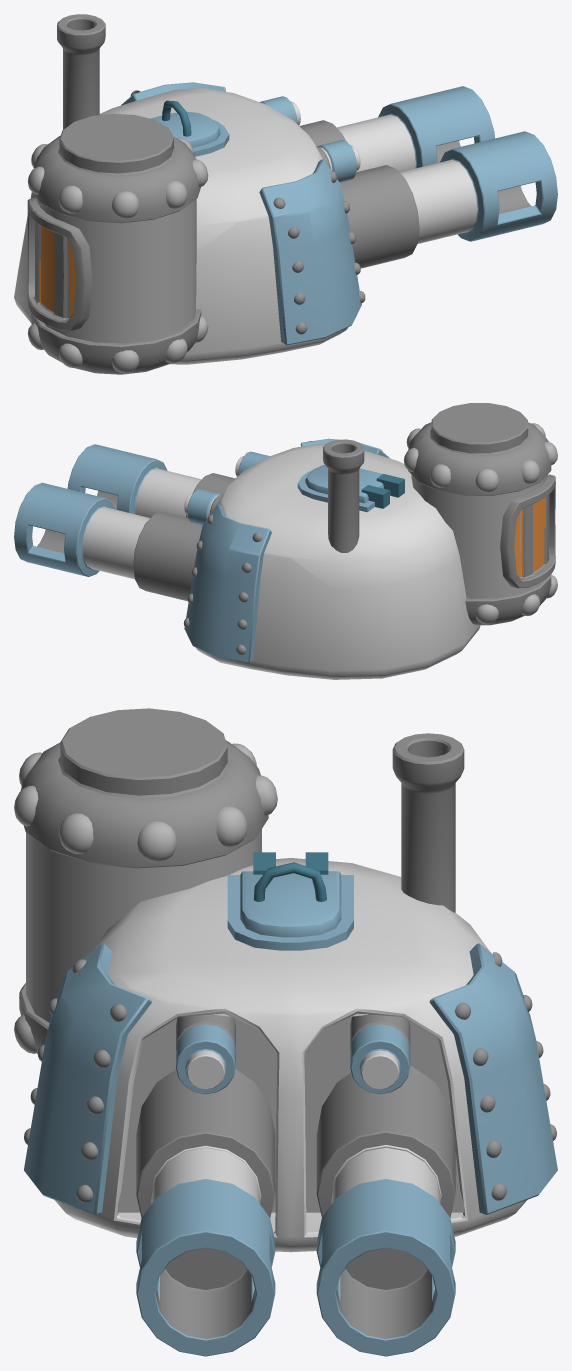
File: Стим панк башня.fbx
3 renders of one model, top to bottom at view 1: azimuth 30°, elevation 25°; view 2: azimuth 150°, elevation 25°; view 3: azimuth 270°, elevation 25°, orthographic. The views are drawn at different scales.
Parts seen in each view (by area): view 1: Cylinder, Cylinder.004, Cylinder.003, Cylinder.001, Cylinder.002, Cylinder.007, Cylinder.005, Cylinder.010, Cube.002, Cylinder.006, Cube, Cylinder.011 (+4 smaller); view 2: Cylinder, Cylinder.004, Cylinder.001, Cylinder.007, Cylinder.003, Cylinder.002, Cylinder.005, Cylinder.008, Cylinder.006, Cube.002, Cube, Cylinder.009 (+4 smaller); view 3: Cylinder, Cylinder.001, Cylinder.004, Cylinder.002, Cylinder.007, Cylinder.003, Plane.001, Cylinder.010, Cylinder.008, Cylinder.006, Cube, Cube.002 (+5 smaller).
Part boxes in pixels (box(x1,y1,x2,y2)): Cylinder: box(14, 88, 347, 364); Cylinder.004: box(31, 113, 201, 374); Cylinder.003: box(36, 198, 196, 343); Cylinder.001: box(121, 82, 361, 345); Cylinder.002: box(400, 131, 557, 243); Cylinder.007: box(337, 86, 494, 172); Cylinder.005: box(27, 197, 92, 331); Cylinder.010: box(340, 165, 419, 268); Cube.002: box(27, 137, 208, 373); Cylinder.006: box(57, 14, 105, 129); Cube: box(150, 111, 229, 156); Cylinder.011: box(316, 140, 360, 182); Cylinder: box(196, 443, 480, 679); Cylinder.004: box(408, 403, 551, 625); Cylinder.001: box(184, 438, 389, 663); Cylinder.007: box(14, 482, 149, 579); Cylinder.003: box(411, 474, 547, 598); Cylinder.002: box(67, 444, 201, 517); Cylinder.005: box(500, 474, 555, 588); Cylinder.008: box(133, 512, 202, 601); Cylinder.006: box(323, 439, 364, 552); Cube.002: box(403, 423, 557, 624); Cube: box(297, 465, 390, 512); Cylinder.009: box(184, 488, 222, 525); Cylinder: box(54, 858, 526, 1252); Cylinder.001: box(24, 943, 557, 1214); Cylinder.004: box(19, 708, 268, 1054); Cylinder.002: box(136, 1147, 275, 1356); Cylinder.007: box(316, 1147, 455, 1356); Cylinder.003: box(26, 829, 261, 1022); Plane.001: box(117, 1016, 463, 1212); Cylinder.010: box(136, 1069, 275, 1217); Cylinder.008: box(316, 1066, 455, 1217); Cylinder.006: box(392, 733, 464, 912); Cube: box(227, 871, 353, 950); Cube.002: box(14, 743, 277, 1053).
Size of the model in its own units: 432 by 206 by 269.
